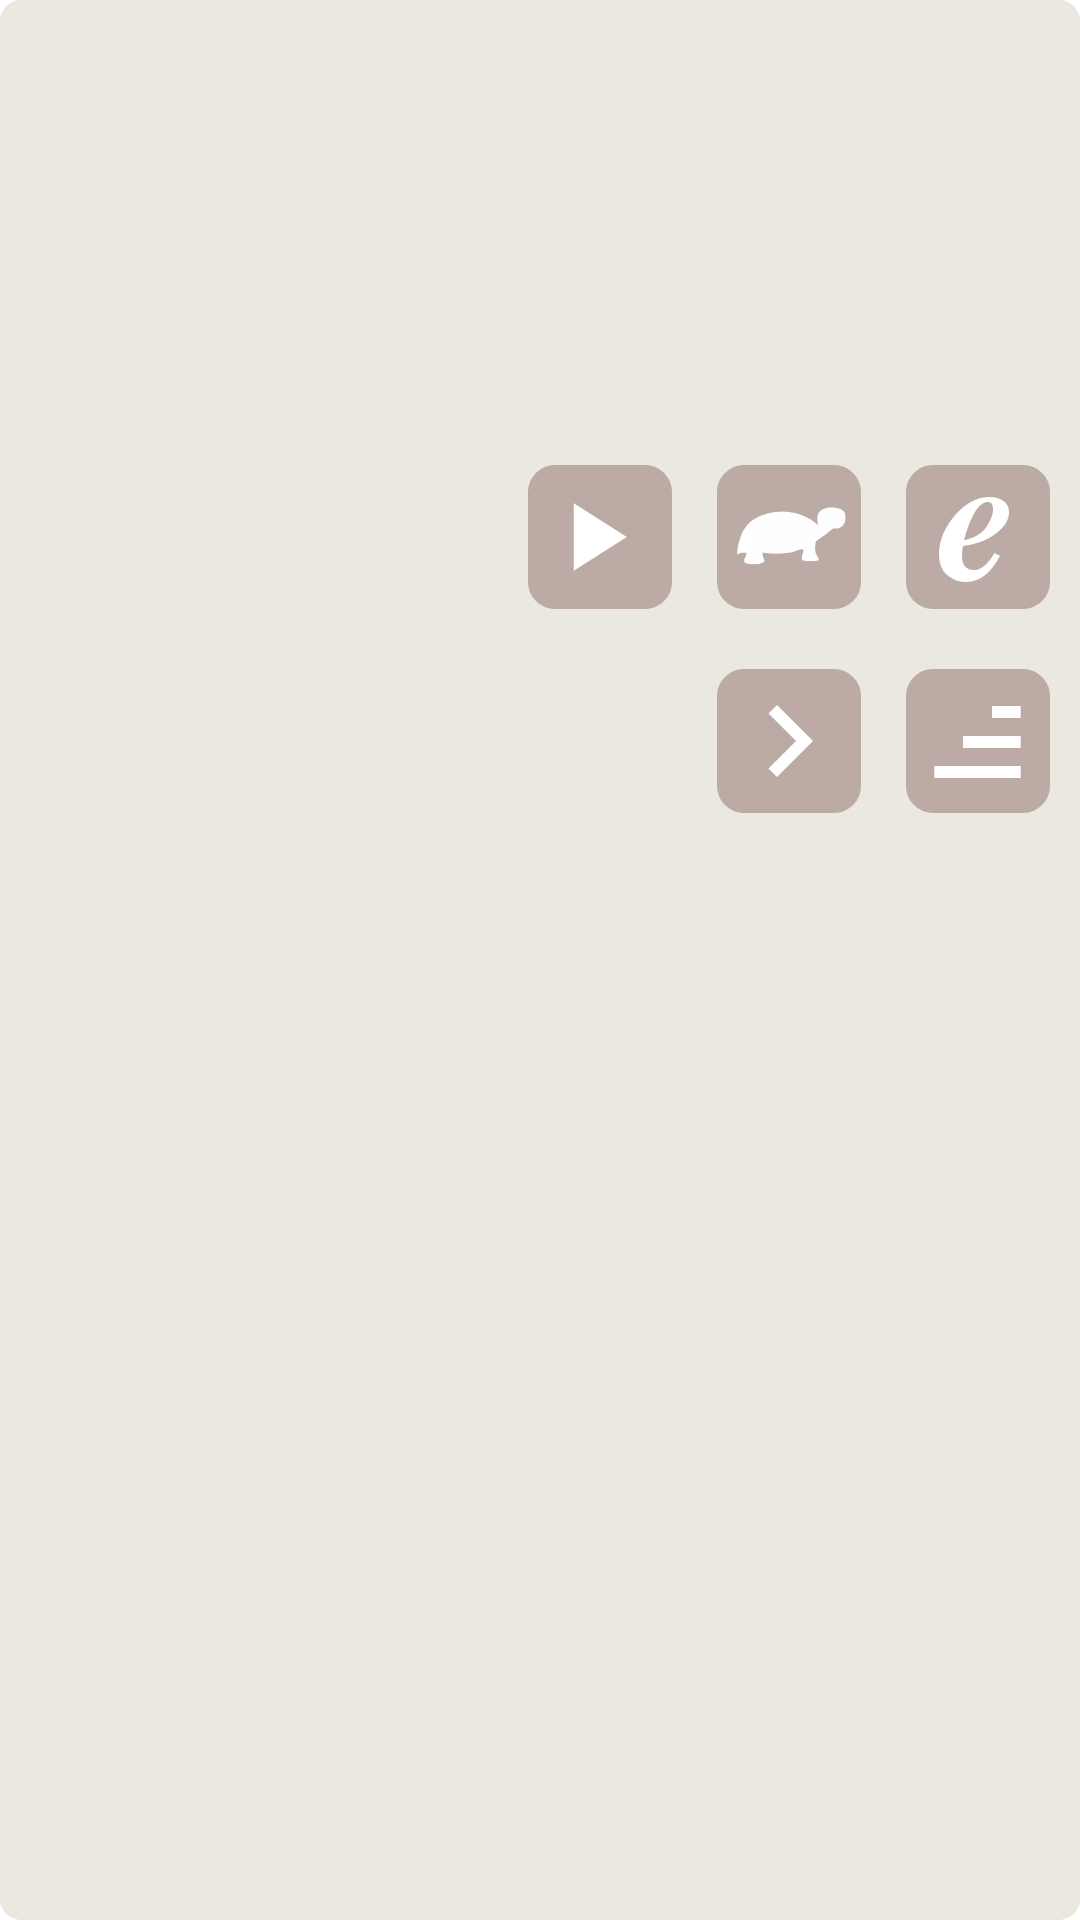

Icons on this 1080px x 1920px Android screen, each with the point to tap as [x,y]:
forward: [789,741]
lines shown: [978,741]
play: [600,537]
turtle: [789,537]
